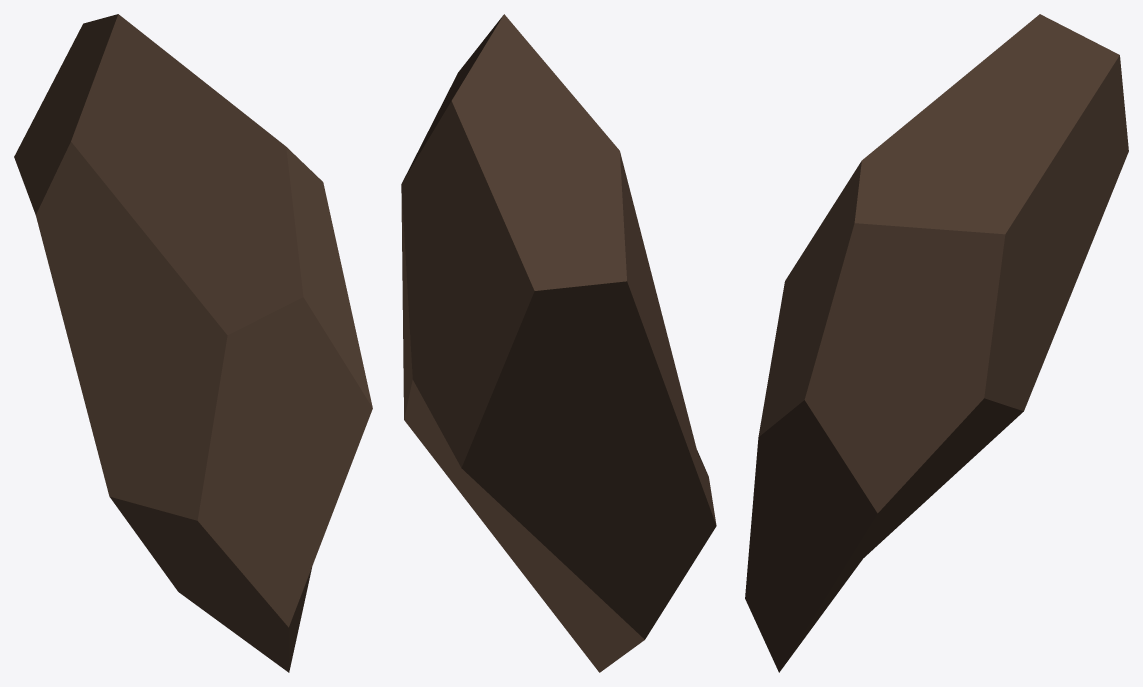
The model's file is Rock_Floor3_Shard.fbx.
The picture shows the model from 3 angles, left to right: view 1: azimuth 30°, elevation 25°; view 2: azimuth 150°, elevation 25°; view 3: azimuth 270°, elevation 25°; orthographic projection. The views are drawn at different scales.
Parts seen in each view (by area): view 1: Rock_Floor3_Shard; view 2: Rock_Floor3_Shard; view 3: Rock_Floor3_Shard.
Boxes of the visible parts, box(x1,y1,x2,y2) form: Rock_Floor3_Shard: box(14, 14, 372, 672); Rock_Floor3_Shard: box(401, 14, 716, 672); Rock_Floor3_Shard: box(745, 14, 1128, 672).
Bounding box in the file's own units: 121 × 287 × 158.
